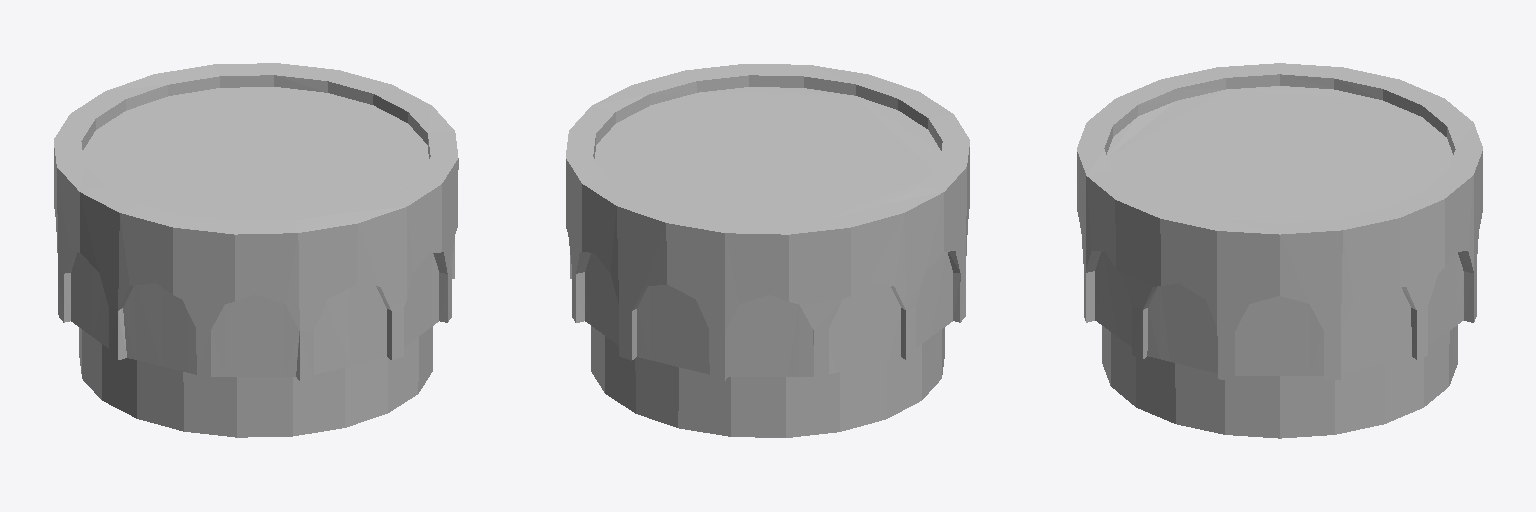
Rendered from table_2.obj.
3 renders of one model, left to right at view 1: azimuth 30°, elevation 25°; view 2: azimuth 150°, elevation 25°; view 3: azimuth 270°, elevation 25°, orthographic.
Parts seen in each view (by area): view 1: Mesa1.001_Cylinder.001; view 2: Mesa1.001_Cylinder.001; view 3: Mesa1.001_Cylinder.001.
Part boxes in pixels (x1,y1,x2,y2): Mesa1.001_Cylinder.001: (54, 63, 458, 437); Mesa1.001_Cylinder.001: (566, 64, 969, 437); Mesa1.001_Cylinder.001: (1077, 63, 1482, 438).
Size of the model in its own units: 1.2 by 0.6999 by 1.2.